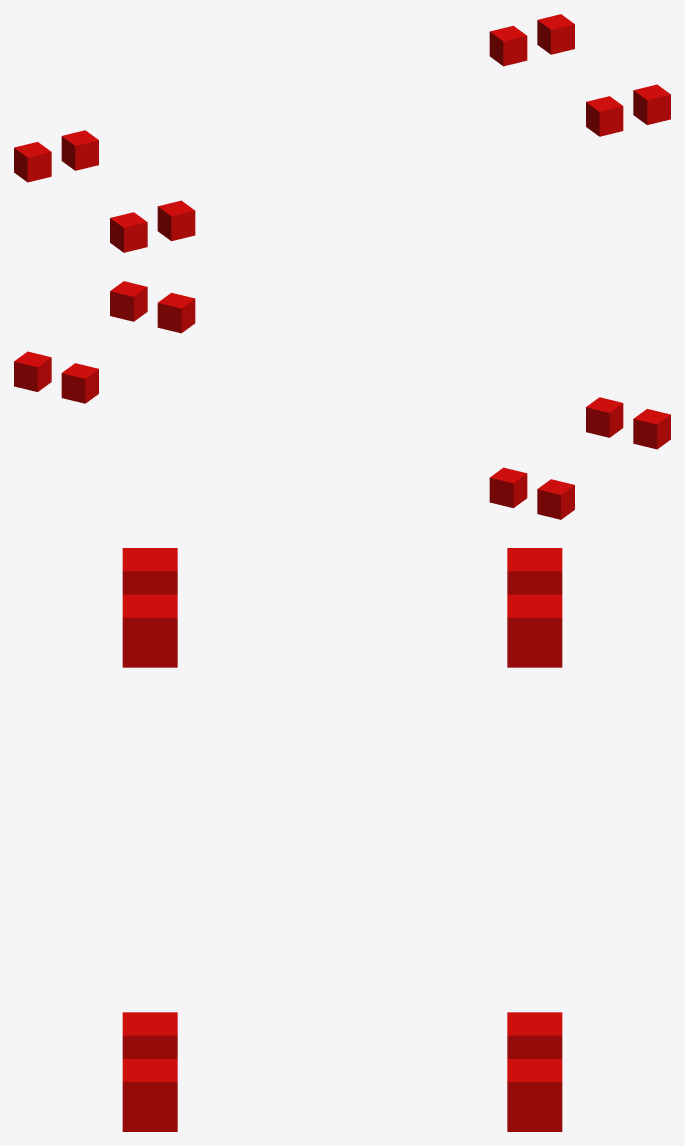
File: level-1.fbx
The picture shows the model from 3 angles, top to bottom: view 1: azimuth 30°, elevation 25°; view 2: azimuth 150°, elevation 25°; view 3: azimuth 270°, elevation 25°; orthographic projection. The views are drawn at different scales.
Parts seen in each view (by area): view 1: Spawn_4_Cube.015, Spawn_0_Cube.013, Spawn_3_Cube.001, Spawn_7_Cube.003, Spawn_6_Cube.022, Spawn_2_Cube.016, Spawn_1_Cube.002, Spawn_5_Cube.004; view 2: Spawn_6_Cube.022, Spawn_2_Cube.016, Spawn_1_Cube.002, Spawn_5_Cube.004, Spawn_4_Cube.015, Spawn_0_Cube.013, Spawn_3_Cube.001, Spawn_7_Cube.003; view 3: Spawn_6_Cube.022, Spawn_4_Cube.015, Spawn_3_Cube.001, Spawn_1_Cube.002, Spawn_5_Cube.004, Spawn_7_Cube.003, Spawn_2_Cube.016, Spawn_0_Cube.013.
Boxes of the visible parts, x1,y1,x2,y2 form: Spawn_4_Cube.015: (157,200,195,241); Spawn_0_Cube.013: (489,25,527,66); Spawn_3_Cube.001: (633,84,670,124); Spawn_7_Cube.003: (14,142,51,182); Spawn_6_Cube.022: (61,130,98,170); Spawn_2_Cube.016: (586,96,623,136); Spawn_1_Cube.002: (537,14,574,54); Spawn_5_Cube.004: (110,212,147,252); Spawn_6_Cube.022: (489,467,527,508); Spawn_2_Cube.016: (157,292,195,333); Spawn_1_Cube.002: (14,351,51,391); Spawn_5_Cube.004: (633,409,670,449); Spawn_4_Cube.015: (586,397,623,437); Spawn_0_Cube.013: (61,363,98,403); Spawn_3_Cube.001: (110,281,147,321); Spawn_7_Cube.003: (537,479,574,519); Spawn_6_Cube.022: (507,594,562,667); Spawn_4_Cube.015: (122,594,177,667); Spawn_3_Cube.001: (122,1059,177,1131); Spawn_1_Cube.002: (507,1059,562,1131); Spawn_5_Cube.004: (122,548,177,594); Spawn_7_Cube.003: (507,548,562,594); Spawn_2_Cube.016: (122,1012,177,1058); Spawn_0_Cube.013: (507,1012,562,1058).
Size of what is drawn, in the model's own units: 4600 by 200 by 1600.
